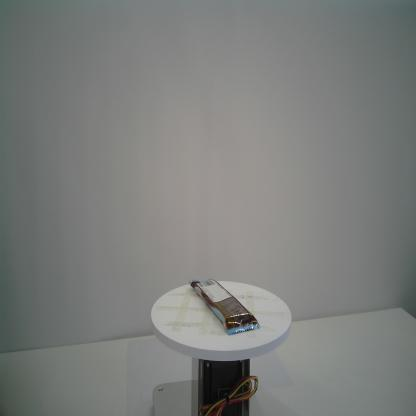Chocolate: (188, 277, 261, 336)
